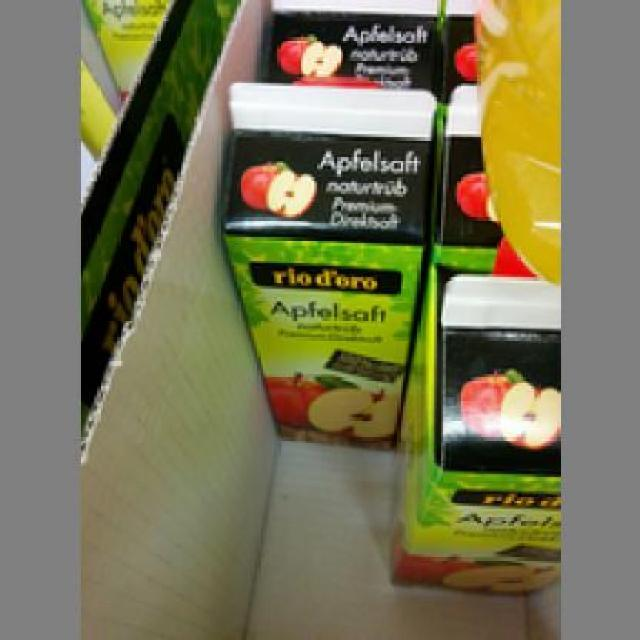Juice: (217, 72, 432, 454), (374, 266, 554, 600)
